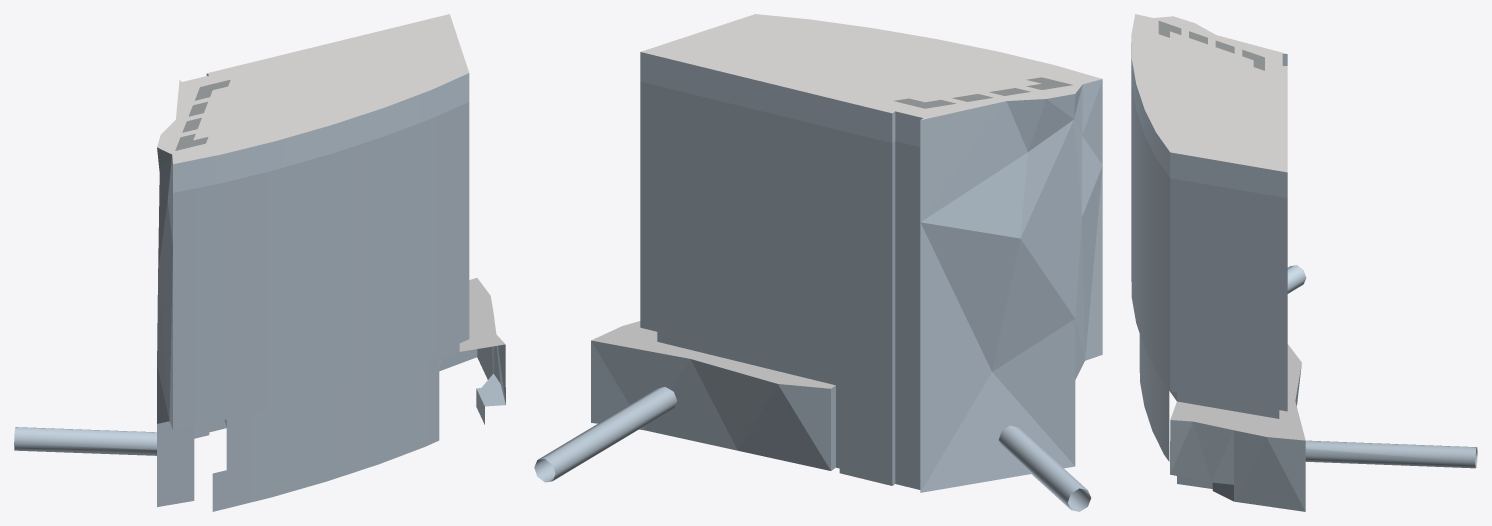
The picture shows the model from 3 angles, left to right: view 1: azimuth 30°, elevation 25°; view 2: azimuth 150°, elevation 25°; view 3: azimuth 270°, elevation 25°; orthographic projection. The views are drawn at different scales.
Parts seen in each view (by area): view 1: 70030076201844685lod; view 2: 70030076201844685lod; view 3: 70030076201844685lod.
Part boxes in pixels (x1,y1,x2,y2): 70030076201844685lod: [14, 14, 505, 511]; 70030076201844685lod: [534, 14, 1102, 511]; 70030076201844685lod: [1131, 14, 1477, 511].
Size of the model in its own units: 119 by 86.5 by 84.
1 material, 1 textured.
